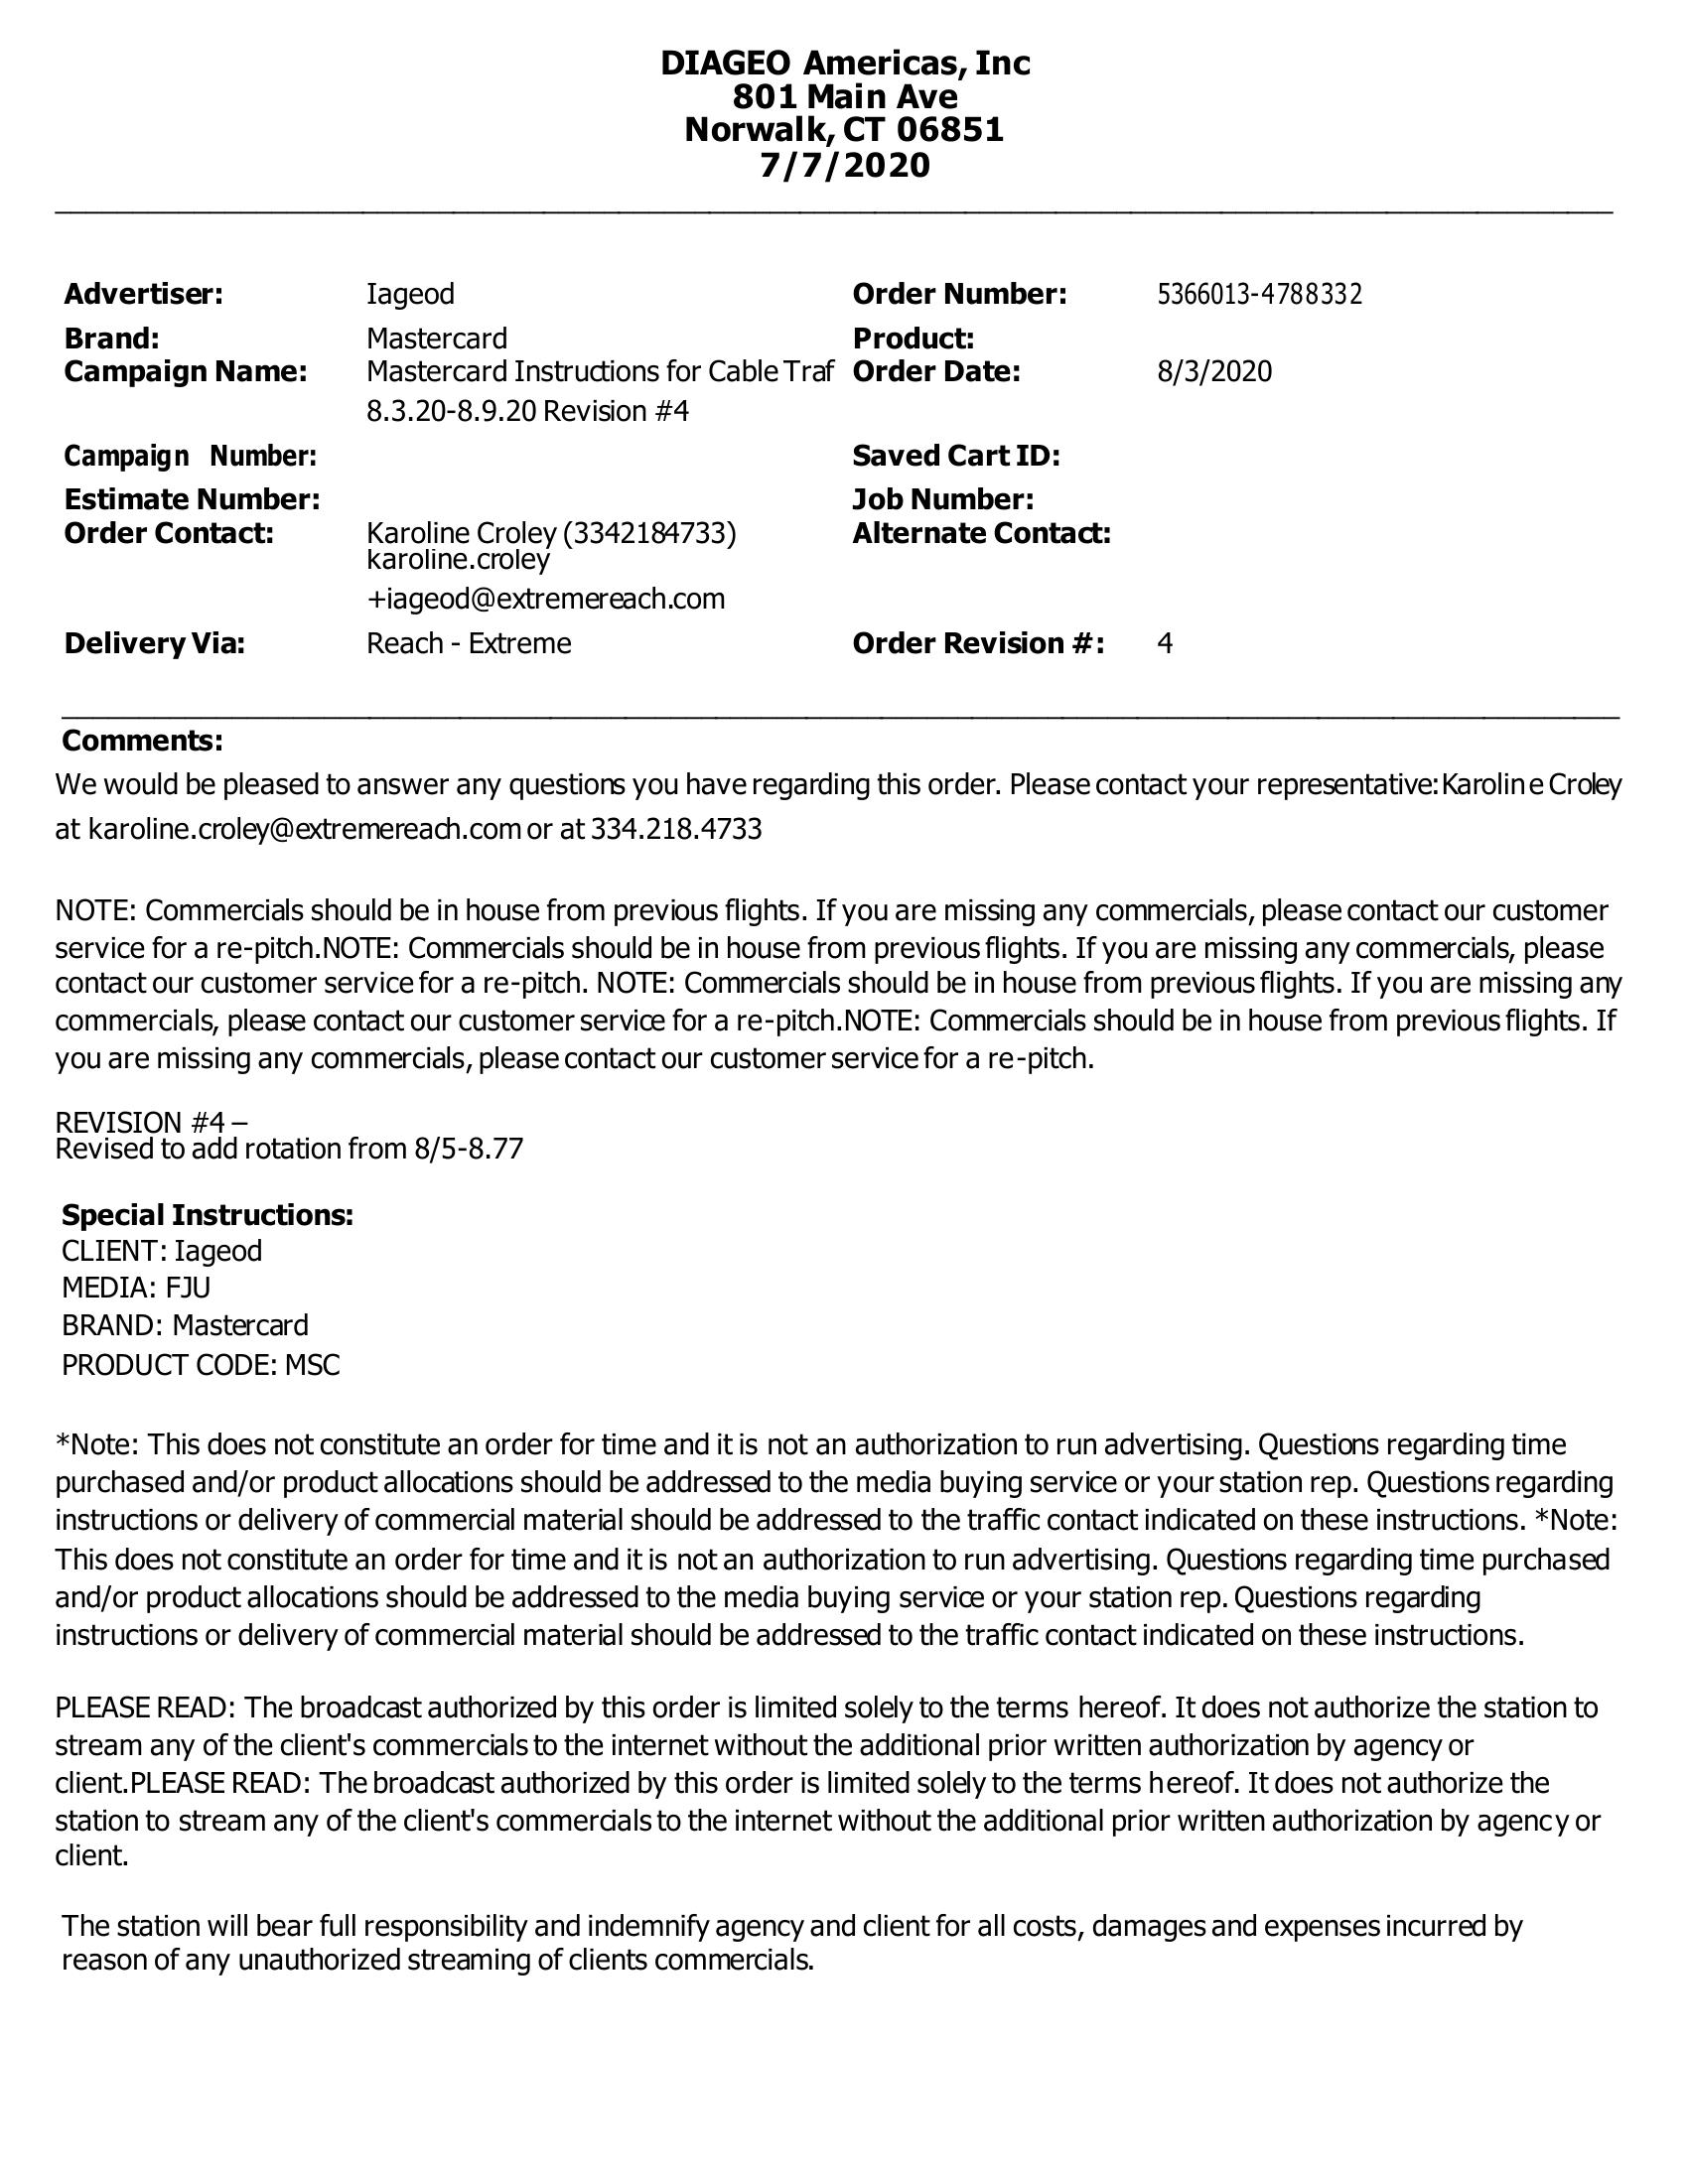table: (37, 259, 1387, 679)
